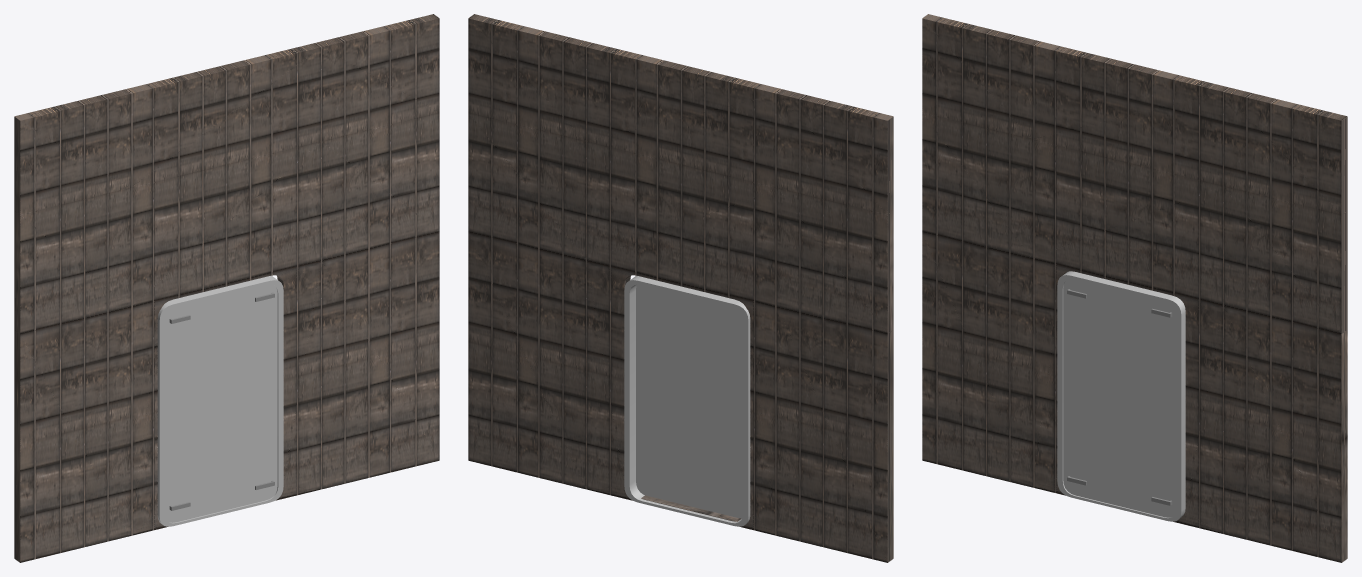
The model's file is BoatDoor.FBX.
The picture shows the model from 3 angles, left to right: view 1: azimuth 30°, elevation 25°; view 2: azimuth 150°, elevation 25°; view 3: azimuth 330°, elevation 25°; orthographic projection.
Parts seen in each view (by area): view 1: Wall, Door, Frame001; view 2: Wall, Door, Frame001; view 3: Wall, Door, Frame001.
Boxes of the visible parts, x1,y1,x2,y2 form: Wall: [14, 14, 439, 562]; Door: [165, 284, 277, 522]; Frame001: [157, 275, 283, 526]; Wall: [468, 14, 893, 562]; Door: [636, 284, 742, 518]; Frame001: [624, 275, 750, 526]; Wall: [922, 14, 1347, 562]; Door: [1063, 279, 1176, 517]; Frame001: [1057, 271, 1185, 521].
Size of the model in its own units: 221 by 222 by 10.35.
